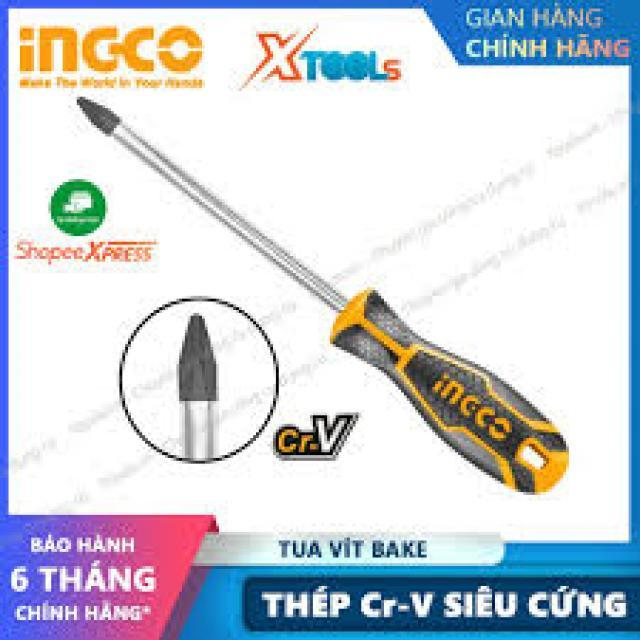screwdriver: (70, 90, 568, 504)
